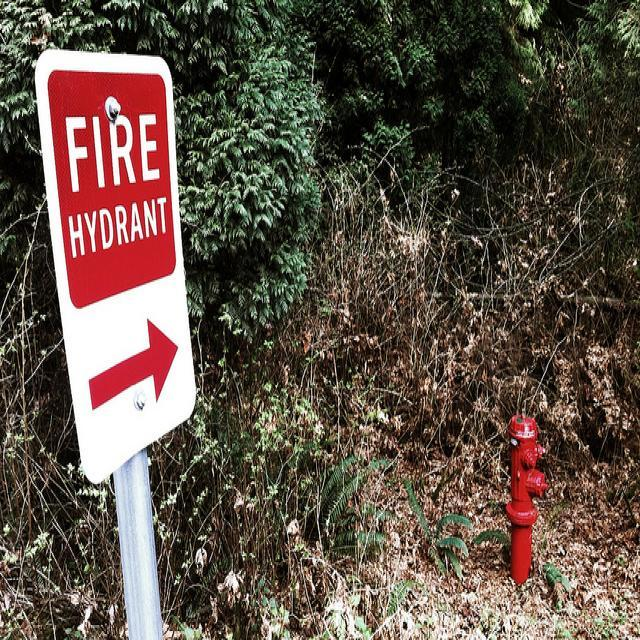fire_hydrant: (505, 412, 549, 585)
